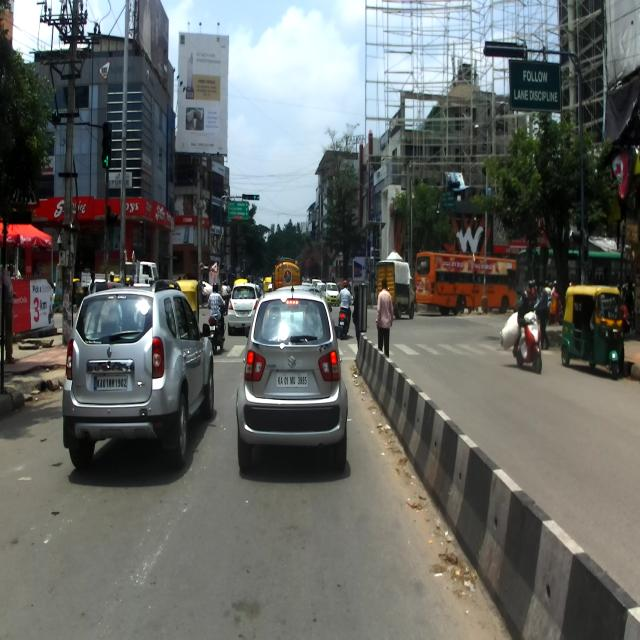auto ahead at: (562, 283, 626, 382)
car ahead at: (64, 281, 217, 464), (233, 293, 352, 468)
electric pole ahead at: (37, 0, 78, 363)
traffic signal ahead at: (99, 117, 113, 177)
